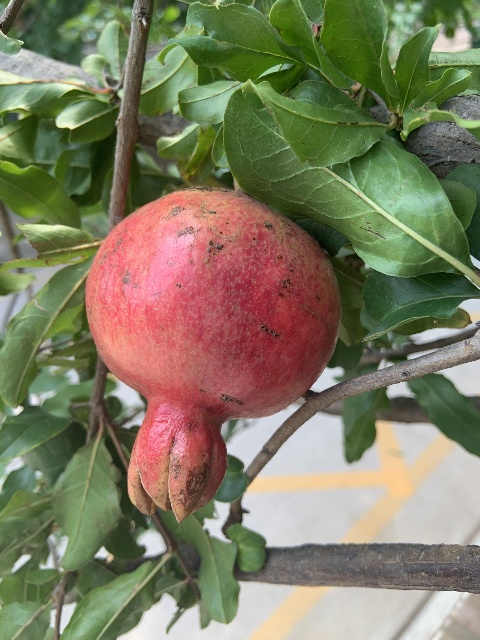ripe: (85, 189, 341, 522)
